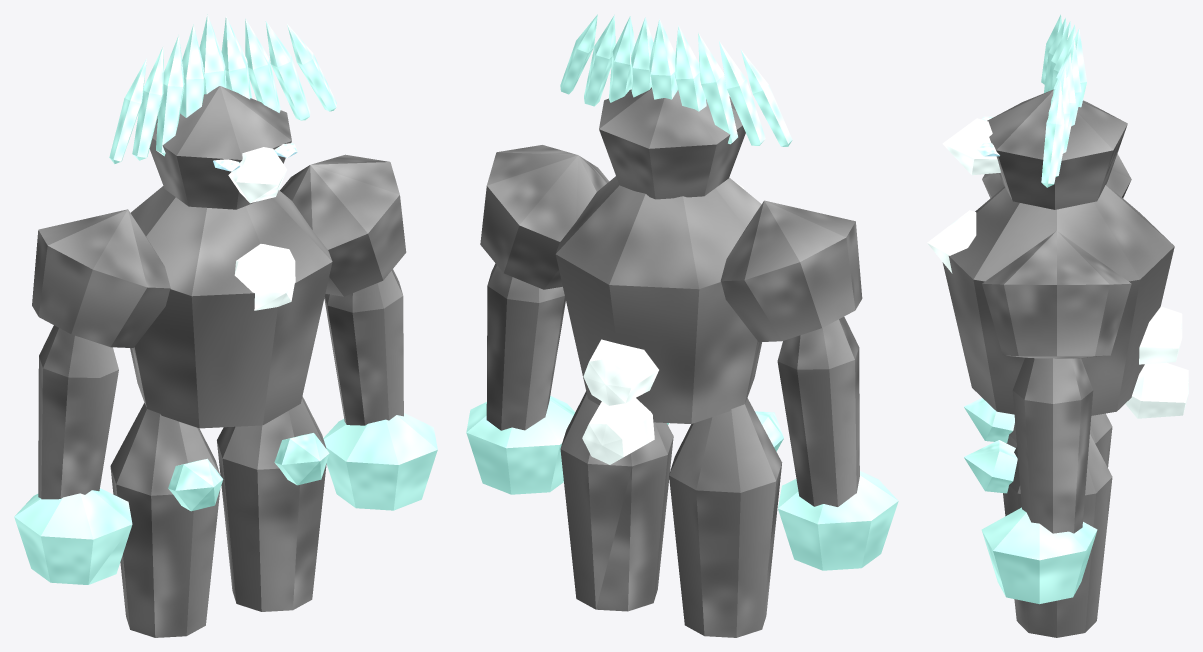
File: deep-fracture-deep-colossus-visual-spirit.glb
3 views of the same model, side by side, from view 1: azimuth 30°, elevation 25°; view 2: azimuth 150°, elevation 25°; view 3: azimuth 270°, elevation 25° (orthographic). The views are drawn at different scales.
Parts seen in each view (by area): view 1: citadel-torso, leg--1, leg-1, shoulder--1, shoulder-1, arm--1, crown, arm-1, fist--1, fist-1, regeneration-core, face-core (+11 smaller); view 2: citadel-torso, leg--1, leg-1, shoulder--1, arm--1, shoulder-1, crown, arm-1, fist--1, fist-1, resistance-core, death-anchor (+9 smaller); view 3: citadel-torso, shoulder-1, arm-1, crown, fist-1, leg-1, death-anchor, resistance-core, knee-1, face-core, regeneration-core, crown-spire-8 (+9 smaller).
Boxes of the visible parts, box(x1,y1,x2,y2) form: citadel-torso: box(130, 186, 332, 428); leg--1: box(110, 403, 220, 637); leg-1: box(217, 396, 326, 611); shoulder--1: box(32, 209, 170, 347); shoulder-1: box(280, 154, 406, 296); arm--1: box(38, 325, 118, 499); crown: box(149, 86, 291, 209); arm-1: box(324, 269, 403, 425); fist--1: box(14, 488, 132, 584); fist-1: box(323, 413, 437, 510); regeneration-core: box(234, 244, 295, 310); face-core: box(228, 147, 287, 203); citadel-torso: box(555, 176, 761, 423); leg--1: box(669, 398, 782, 637); leg-1: box(560, 391, 673, 611); shoulder--1: box(720, 200, 862, 342); arm--1: box(777, 317, 859, 506); shoulder-1: box(480, 145, 609, 289); crown: box(599, 87, 745, 199); arm-1: box(486, 263, 565, 430); fist--1: box(778, 471, 898, 570); fist-1: box(466, 395, 575, 494); resistance-core: box(583, 339, 658, 405); death-anchor: box(582, 398, 654, 464); citadel-torso: box(942, 184, 1174, 415); shoulder-1: box(982, 231, 1131, 358); arm-1: box(1012, 357, 1093, 533); crown: box(987, 89, 1127, 209); fist-1: box(981, 507, 1097, 604); leg-1: box(1003, 434, 1112, 637); death-anchor: box(1125, 362, 1188, 418); resistance-core: box(1139, 306, 1182, 364); knee-1: box(964, 440, 1017, 493); face-core: box(942, 118, 1000, 175); regeneration-core: box(927, 210, 976, 273); crown-spire-8: box(1041, 80, 1064, 187).
Size of the model in its own units: 4.74 by 6.65 by 2.73.
6 materials, 6 textured.
